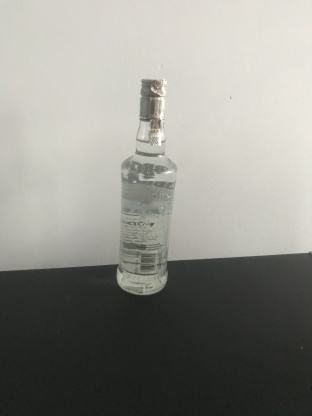nakretka: (138, 76, 168, 121)
